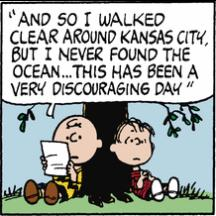charlie: (23, 113, 103, 206)
